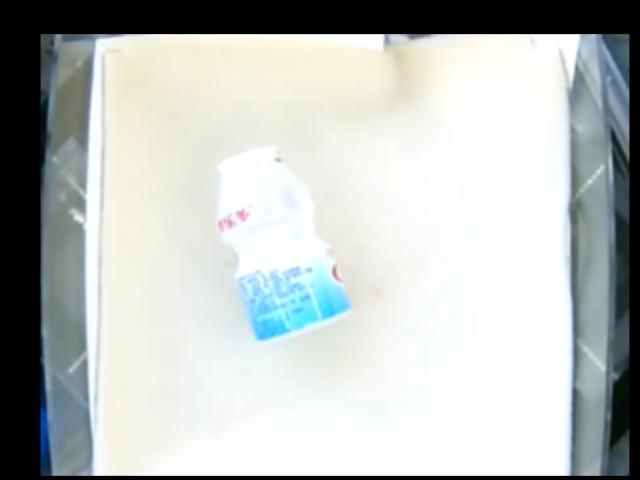Bottle: (218, 146, 353, 344)
